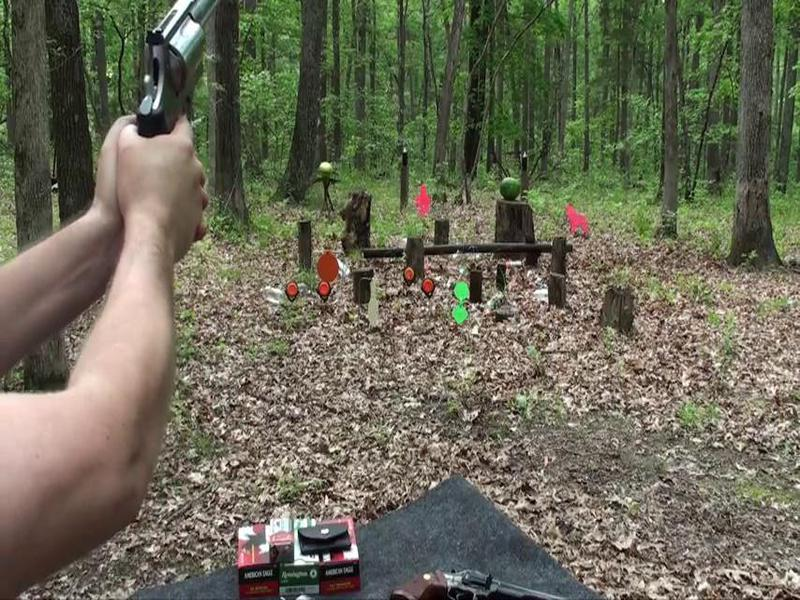Revolver: (100, 1, 262, 164)
